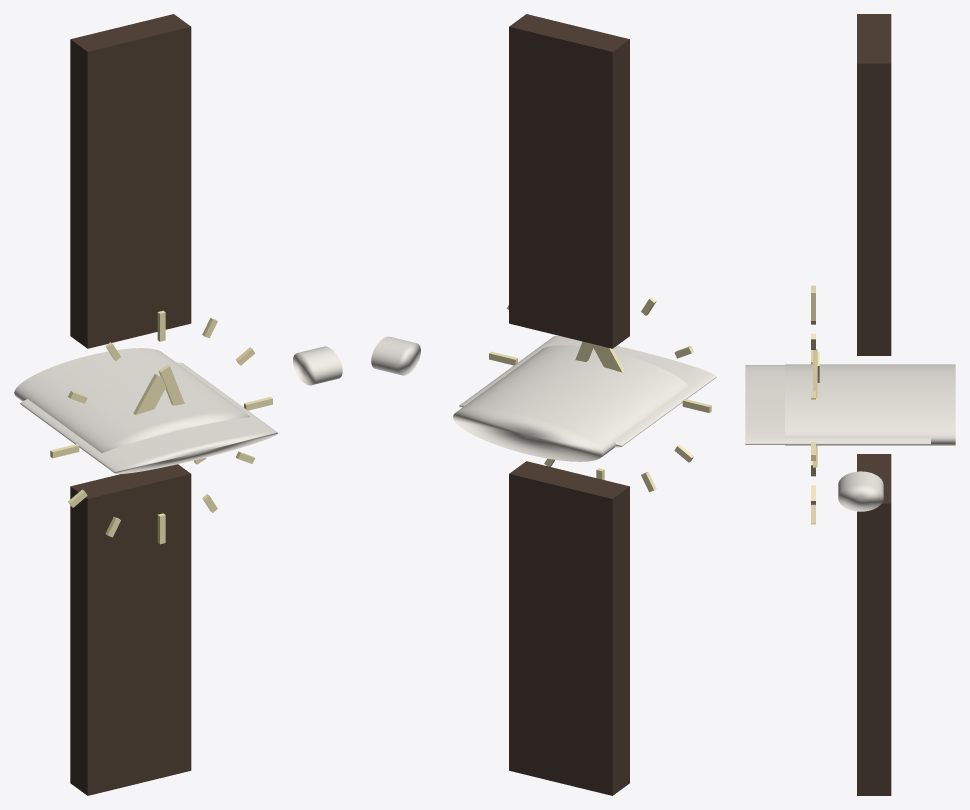
Rendered from material-spheres-external.gltf.
3 renders of one model, left to right at view 1: azimuth 30°, elevation 25°; view 2: azimuth 150°, elevation 25°; view 3: azimuth 270°, elevation 25°, orthographic.
Parts seen in each view (by area): view 1: upper-strap, lower-strap, case, bezel, crown, hour-hand; view 2: upper-strap, lower-strap, case, bezel, crown; view 3: case, upper-strap, lower-strap, bezel, crown.
Boxes of the visible parts, x1=… form: upper-strap: x1=70, y1=14, x2=191, y2=348; lower-strap: x1=70, y1=464, x2=191, y2=795; case: x1=14, y1=348, x2=249, y2=452; bezel: x1=20, y1=362, x2=277, y2=473; crown: x1=293, y1=346, x2=342, y2=385; hour-hand: x1=133, y1=374, x2=165, y2=414; upper-strap: x1=509, y1=14, x2=629, y2=348; lower-strap: x1=509, y1=461, x2=629, y2=795; case: x1=453, y1=345, x2=688, y2=461; bezel: x1=459, y1=336, x2=716, y2=447; crown: x1=371, y1=336, x2=420, y2=375; case: x1=785, y1=364, x2=955, y2=445; upper-strap: x1=857, y1=14, x2=891, y2=355; lower-strap: x1=857, y1=454, x2=891, y2=795; bezel: x1=745, y1=365, x2=930, y2=444; crown: x1=838, y1=471, x2=883, y2=511.
Bounding box in the file's own units: 1.82 × 4.26 × 1.11.
